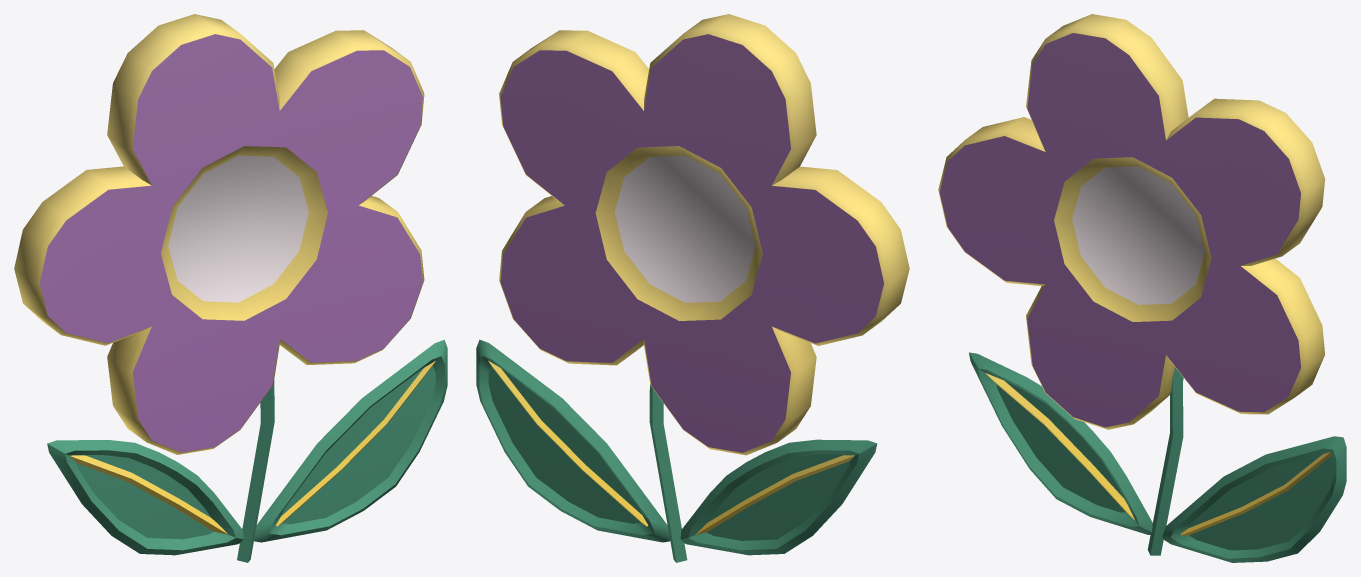
Rendered from Doll_OB_ToyFlower01.fbx.
3 views of the same model, side by side, from view 1: azimuth 30°, elevation 25°; view 2: azimuth 150°, elevation 25°; view 3: azimuth 330°, elevation 25° (orthographic). The views are drawn at different scales.
Visible parts, largest first — view 1: Doll_OB_ToyFlower01_1, Doll_OB_ToyFlower01_2; view 2: Doll_OB_ToyFlower01_1, Doll_OB_ToyFlower01_2; view 3: Doll_OB_ToyFlower01_1, Doll_OB_ToyFlower01_2.
Part boxes in pixels (x1,y1,x2,y2): Doll_OB_ToyFlower01_1: [39, 34, 447, 562]; Doll_OB_ToyFlower01_2: [14, 14, 435, 534]; Doll_OB_ToyFlower01_1: [476, 34, 883, 562]; Doll_OB_ToyFlower01_2: [488, 14, 909, 534]; Doll_OB_ToyFlower01_1: [940, 33, 1346, 562]; Doll_OB_ToyFlower01_2: [938, 14, 1331, 535].
Size of the model in its own units: 7.24 by 8.97 by 0.7093.
1 material, 1 textured.
